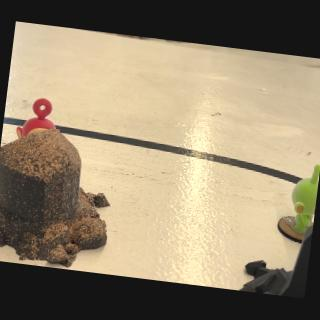teletubby: (292, 165, 320, 233), (16, 98, 60, 138)
